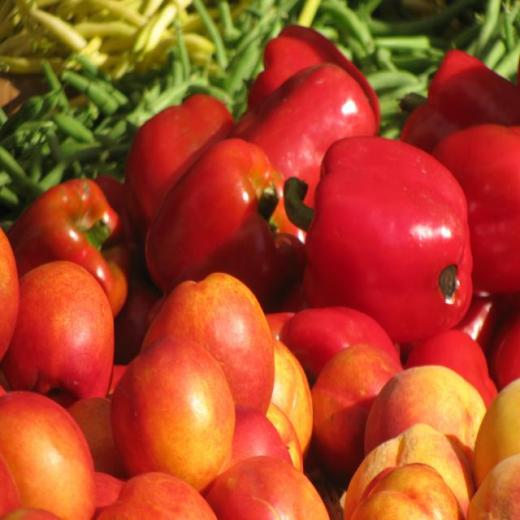Apple: (0, 222, 520, 520), (104, 329, 232, 492)
